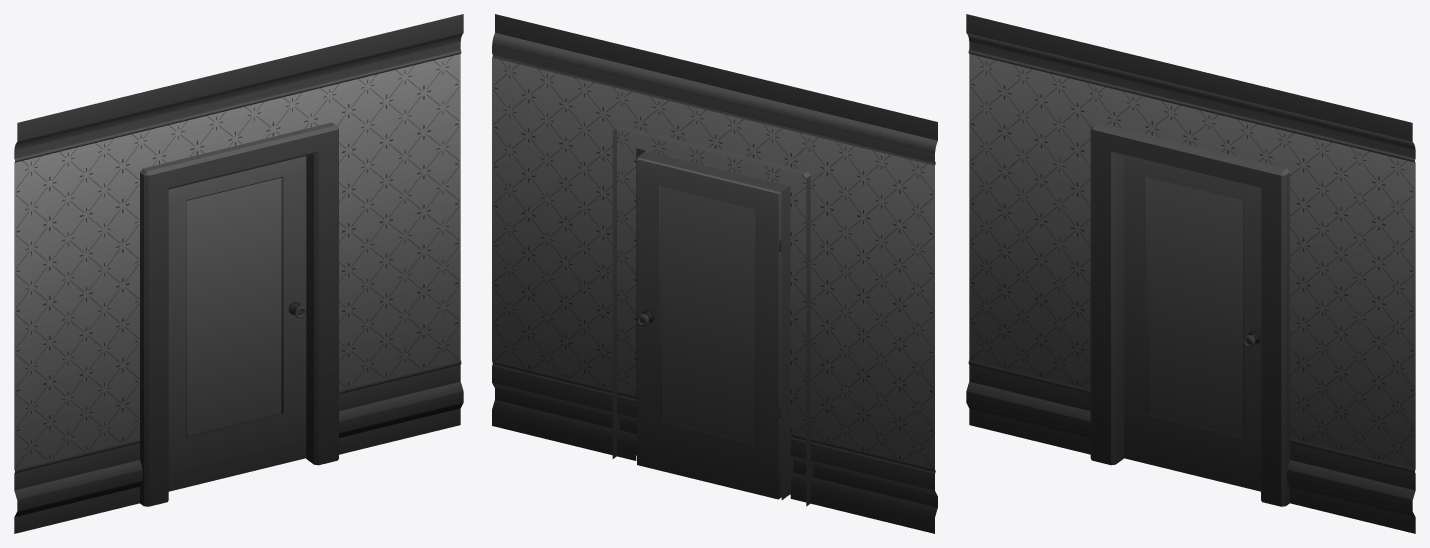
The model's file is Wall_02_Door_01_Dark.fbx.
The picture shows the model from 3 angles, left to right: view 1: azimuth 30°, elevation 25°; view 2: azimuth 150°, elevation 25°; view 3: azimuth 330°, elevation 25°; orthographic projection.
Parts seen in each view (by area): view 1: Wall_02_Door_01_Dark, Door_01; view 2: Wall_02_Door_01_Dark, Door_01; view 3: Wall_02_Door_01_Dark, Door_01.
Part boxes in pixels (x1,y1,x2,y2): Wall_02_Door_01_Dark: (14,14,463,533); Door_01: (168,156,306,491); Wall_02_Door_01_Dark: (492,14,937,533); Door_01: (637,158,781,499); Wall_02_Door_01_Dark: (966,14,1415,533); Door_01: (1123,156,1260,491).
Size of the model in its own units: 3 by 2.65 by 0.2141.
